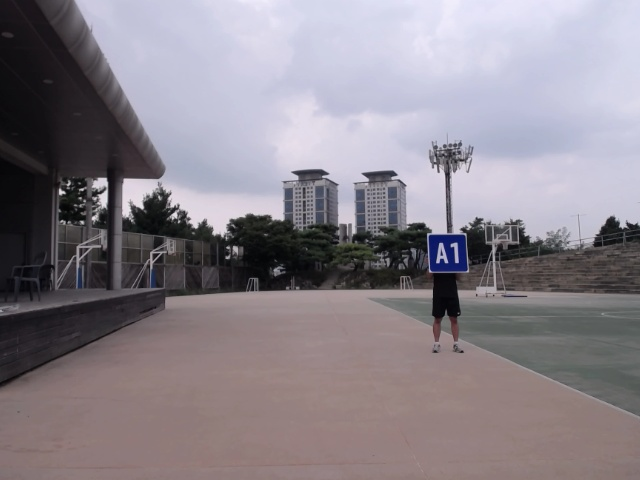delivery_a1: (428, 234, 468, 272)
